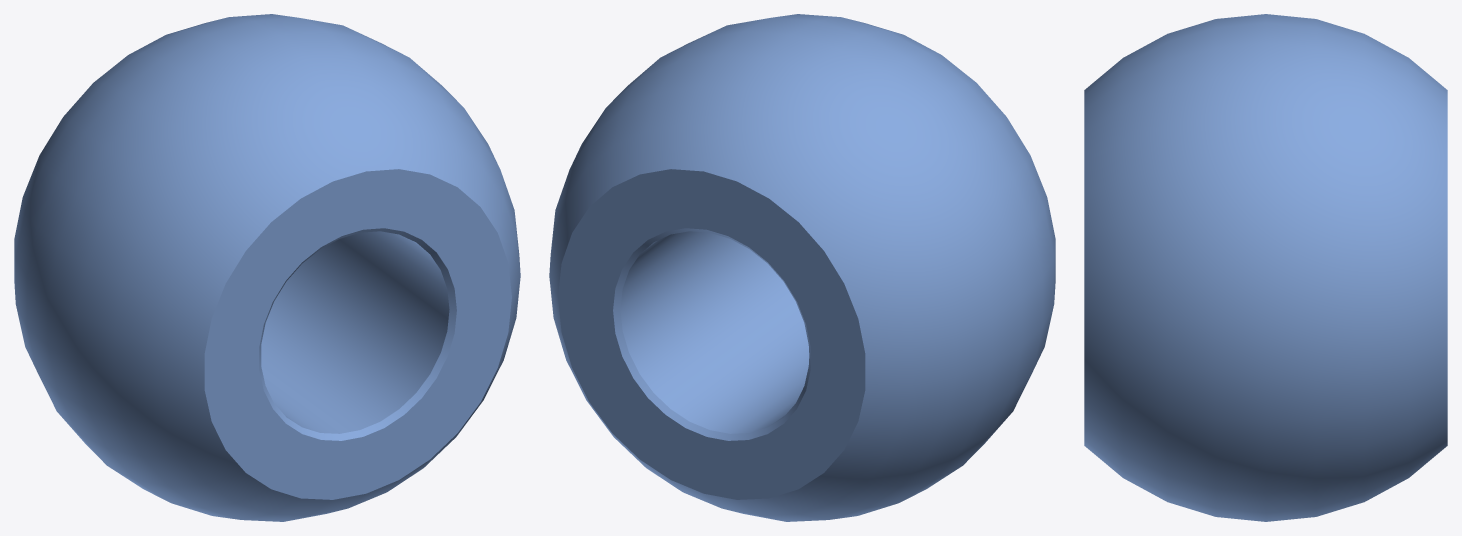
Rendered from Chamfer2.gltf.
3 renders of one model, left to right at view 1: azimuth 30°, elevation 25°; view 2: azimuth 150°, elevation 25°; view 3: azimuth 270°, elevation 25°, orthographic.
Visible parts, largest first — view 1: mesh52466, mesh52467, mesh52463, mesh52462; view 2: mesh52466, mesh52465, mesh52463, mesh52464; view 3: mesh52466.
Boxes of the visible parts, x1,y1,x2,y2 form: mesh52466: (14, 14, 520, 521); mesh52467: (204, 169, 511, 499); mesh52463: (261, 231, 449, 433); mesh52462: (259, 228, 456, 440); mesh52466: (549, 14, 1055, 521); mesh52465: (558, 169, 865, 499); mesh52463: (620, 231, 809, 433); mesh52464: (613, 228, 811, 440); mesh52466: (1084, 14, 1447, 521).
Bounding box in the file's own units: 0.0111 × 0.0111 × 0.00794.
